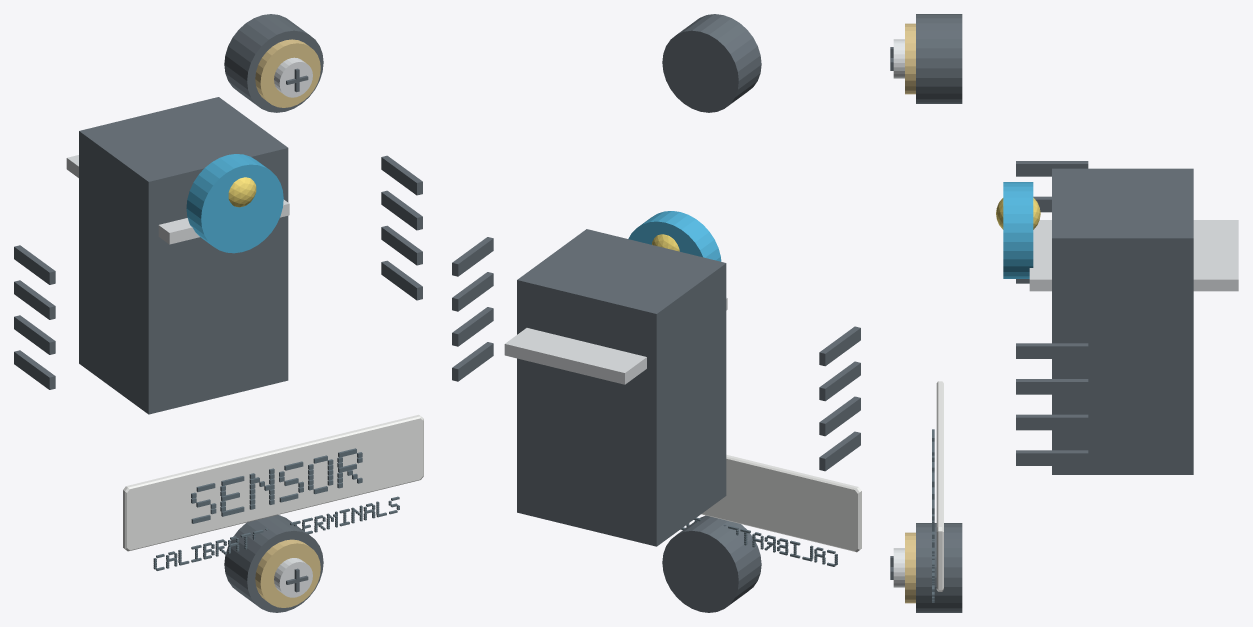
The model's file is sensor.glb.
3 renders of one model, left to right at view 1: azimuth 30°, elevation 25°; view 2: azimuth 150°, elevation 25°; view 3: azimuth 270°, elevation 25°, orthographic.
Parts seen in each view (by area): view 1: sensor-detailed; view 2: sensor-detailed; view 3: sensor-detailed.
Boxes of the visible parts, x1=… form: sensor-detailed: x1=14, y1=14, x2=423, y2=612; sensor-detailed: x1=452, y1=14, x2=861, y2=612; sensor-detailed: x1=890, y1=14, x2=1238, y2=612.
Size of the model in its own units: 1.53 by 2.27 by 1.21.
